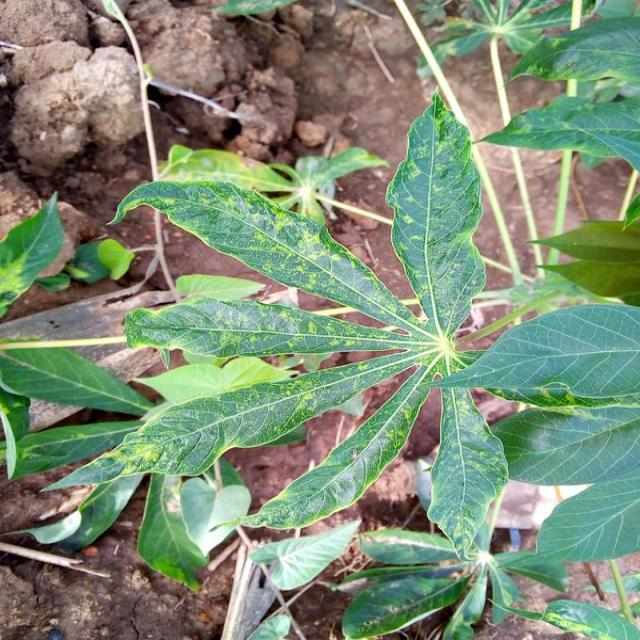Mosaico: (135, 142, 533, 514)
